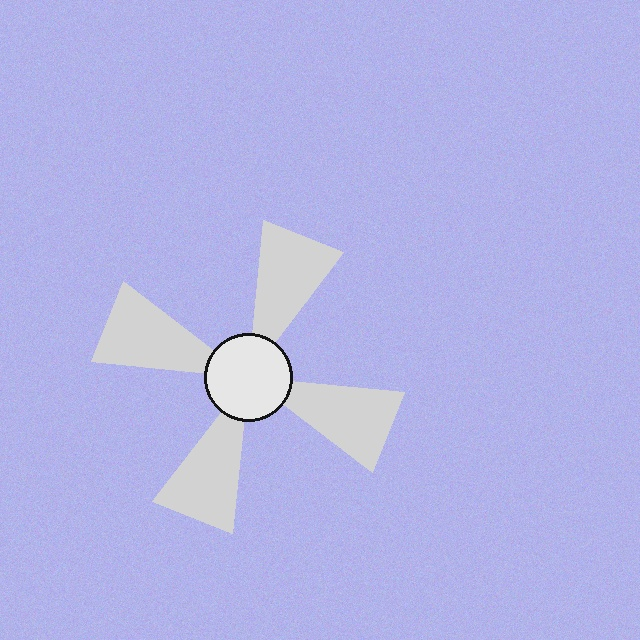fan: (67, 196, 429, 558)
